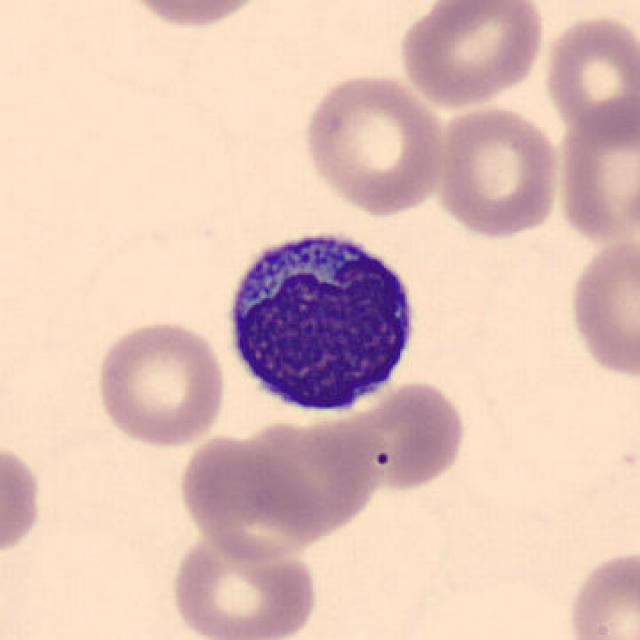Lymphocyte: (217, 217, 425, 421)
RBC: (298, 70, 449, 218), (176, 432, 322, 562), (91, 316, 229, 450), (432, 102, 564, 240), (394, 0, 548, 111), (167, 529, 320, 640), (334, 377, 470, 494), (551, 95, 640, 249), (539, 10, 638, 144), (564, 232, 638, 382), (562, 545, 638, 640), (2, 436, 44, 564), (106, 0, 274, 32)
